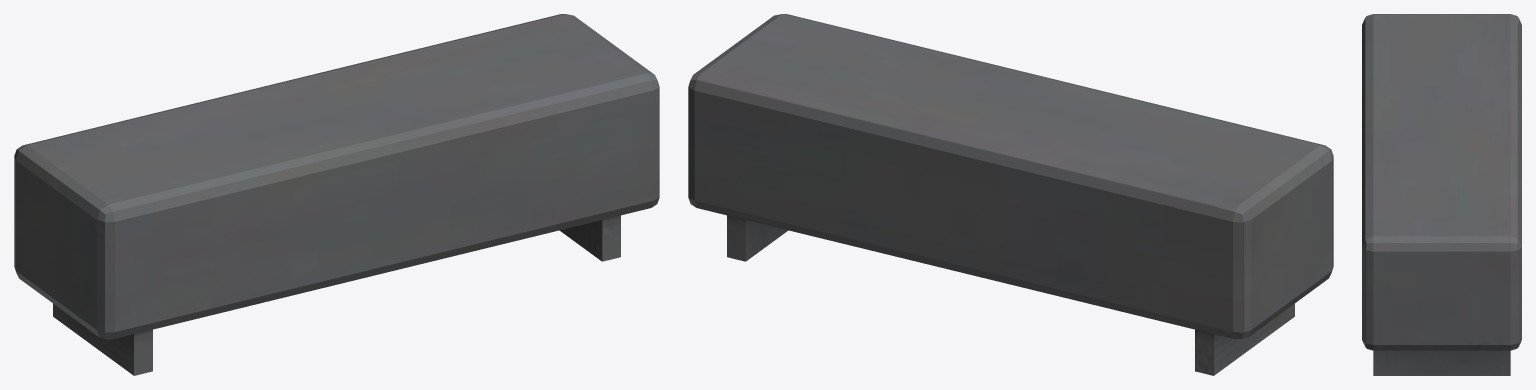
Rendered from trough.glb.
3 views of the same model, side by side, from view 1: azimuth 30°, elevation 25°; view 2: azimuth 150°, elevation 25°; view 3: azimuth 270°, elevation 25° (orthographic). The views are drawn at different scales.
Parts seen in each view (by area): view 1: trough; view 2: trough; view 3: trough.
Part boxes in pixels (x1=…): trough: x1=14, y1=14, x2=659, y2=375; trough: x1=688, y1=14, x2=1333, y2=375; trough: x1=1362, y1=14, x2=1521, y2=375.
Bounding box in the file's own units: 2.4 × 0.725 × 0.7.
1 material, 1 textured.
